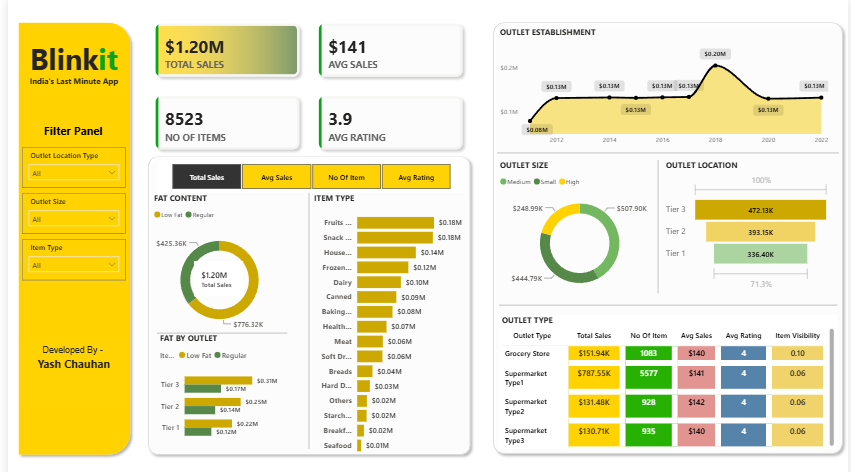

What the dashboard file says about the page in this screenshot:
{"tool":"powerbi","page":{"name":"Page 1","canvas":[1400,800],"ordinal":0},"visuals":[{"type":"shape","box":[7.9,29.9,204.7,738.6],"z":0},{"type":"textbox","box":[23.6,61.4,173.2,85],"z":1000},{"type":"textbox","box":[23.6,122.8,173.2,37.8],"z":2000},{"type":"cardVisual","fields":{"Data":["BlinkIT Grocery Data.Total Sales","BlinkIT Grocery Data.Avg Sales","BlinkIT Grocery Data.No Of Item","BlinkIT Grocery Data.Avg Rating"]},"box":[217.3,11,570.1,269.3],"z":3000},{"type":"shape","box":[225.2,253.5,554.3,515],"z":4000},{"type":"donutChart","title":"FAT CONTENT","fields":{"Y":["BlinkIT Grocery Data.Total Sales"],"Category":["BlinkIT Grocery Data.Item Fat Content"]},"box":[237.8,322.8,228.3,245.7],"z":5000},{"type":"slicer","fields":{"Values":["Metrics.Metrics"]},"box":[248.8,267.7,513.4,55.1],"z":6000},{"type":"cardVisual","fields":{"Data":["BlinkIT Grocery Data.Total Sales"]},"box":[305.5,431.5,92.9,69.3],"z":7000},{"type":"clusteredBarChart","title":"FAT BY OUTLET","fields":{"Y":["BlinkIT Grocery Data.Total Sales"],"Category":["BlinkIT Grocery Data.Outlet Location Type"],"Series":["BlinkIT Grocery Data.Item Fat Content"]},"box":[248.8,557.5,206.3,192.1],"z":8000},{"type":"shape","box":[248.8,546.5,217.3,20.5],"z":9000},{"type":"shape","box":[486.6,322.8,29.9,426.8],"z":10000},{"type":"barChart","title":"ITEM TYPE","fields":{"Y":["BlinkIT Grocery Data.Total Sales"],"Category":["BlinkIT Grocery Data.Item Type"]},"box":[505.5,322.8,256.7,445.7],"z":11000},{"type":"shape","box":[800,29.9,600,737],"z":12000},{"type":"lineChart","title":"OUTLET ESTABLISHMENT","fields":{"Category":["BlinkIT Grocery Data.Outlet Establishment Year"],"Y":["BlinkIT Grocery Data.Total Sales"]},"box":[815.7,47.2,557.5,206.3],"z":13000},{"type":"shape","box":[815.7,253.5,570.1,6.3],"z":14000},{"type":"donutChart","title":"OUTLET SIZE","fields":{"Y":["BlinkIT Grocery Data.Total Sales"],"Category":["BlinkIT Grocery Data.Outlet Size"]},"box":[815.7,267.7,275.6,233.1],"z":15000},{"type":"shape","box":[1070.9,267.7,23.6,222],"z":16000},{"type":"funnel","title":"OUTLET LOCATION","fields":{"Y":["Sum(BlinkIT Grocery Data.Sales)"],"Category":["BlinkIT Grocery Data.Outlet Location Type"]},"box":[1091.3,267.7,281.9,222],"z":17000},{"type":"shape","box":[818.9,502.4,563.8,17.3],"z":18000},{"type":"pivotTable","title":"OUTLET TYPE","fields":{"Rows":["BlinkIT Grocery Data.Outlet Type"],"Values":["BlinkIT Grocery Data.Total Sales","BlinkIT Grocery Data.No Of Item","BlinkIT Grocery Data.Avg Sales","BlinkIT Grocery Data.Avg Rating","Avg(BlinkIT Grocery Data.Item Visibility)"]},"box":[818.9,526,563.8,223.6],"z":19000},{"type":"slicer","fields":{"Values":["BlinkIT Grocery Data.Outlet Location Type"]},"box":[23.8,246,173,68.3],"z":20000},{"type":"slicer","fields":{"Values":["BlinkIT Grocery Data.Outlet Size"]},"box":[23.6,322.8,173.2,67.7],"z":21000},{"type":"slicer","fields":{"Values":["BlinkIT Grocery Data.Item Type"]},"box":[23.6,400,173.2,69.3],"z":22000},{"type":"textbox","box":[55.6,201.6,141.3,44.4],"z":23000},{"type":"textbox","box":[23.6,568.5,173.2,103.9],"z":23001}]}

Visuals, with their boxes on the page's 1400x800 design canvas (x1, y1, x2, y2). These are canvas units, not pixel positions in the 851x472 screenshot, which may show the page scaled, cropped or inside an application window:
shape: [8, 30, 213, 768]
textbox: [24, 61, 197, 146]
textbox: [24, 123, 197, 161]
cardVisual - BlinkIT Grocery Data.Total Sales x BlinkIT Grocery Data.Avg Sales: [217, 11, 787, 280]
shape: [225, 254, 780, 768]
"FAT CONTENT" donutChart: [238, 323, 466, 568]
slicer - Metrics.Metrics: [249, 268, 762, 323]
cardVisual - BlinkIT Grocery Data.Total Sales: [306, 432, 398, 501]
"FAT BY OUTLET" clusteredBarChart: [249, 558, 455, 750]
shape: [249, 546, 466, 567]
shape: [487, 323, 516, 750]
"ITEM TYPE" barChart: [506, 323, 762, 768]
shape: [800, 30, 1400, 767]
"OUTLET ESTABLISHMENT" lineChart: [816, 47, 1373, 254]
shape: [816, 254, 1386, 260]
"OUTLET SIZE" donutChart: [816, 268, 1091, 501]
shape: [1071, 268, 1094, 490]
"OUTLET LOCATION" funnel: [1091, 268, 1373, 490]
shape: [819, 502, 1383, 520]
"OUTLET TYPE" pivotTable: [819, 526, 1383, 750]
slicer - BlinkIT Grocery Data.Outlet Location Type: [24, 246, 197, 314]
slicer - BlinkIT Grocery Data.Outlet Size: [24, 323, 197, 390]
slicer - BlinkIT Grocery Data.Item Type: [24, 400, 197, 469]
textbox: [56, 202, 197, 246]
textbox: [24, 568, 197, 672]
